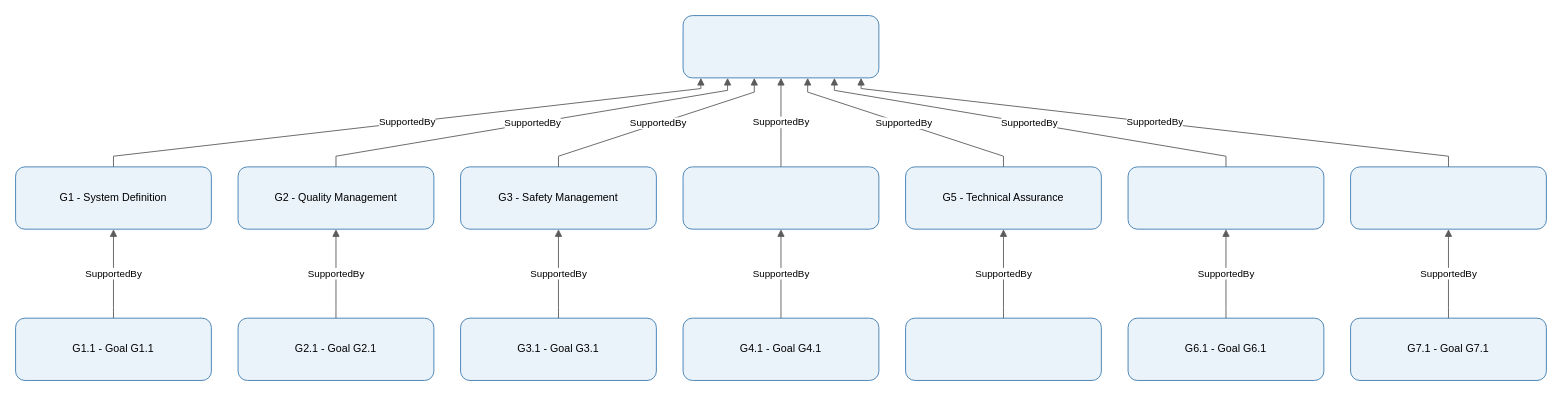
Image size: 1562x396. Some labels were removed from this diagram. The shapes that lost their labels are listed below. From the top down, each one's centre as x and y in pixels, then its label:
At point (780, 46): "G0 - The System is...".
At point (780, 197): "G4 - System Integration".
At point (1225, 197): "G6 - Issues Management".
At point (1448, 197): "G7 - Operational Readiness".
At point (1003, 348): "G5.1 - Goal G5.1".
